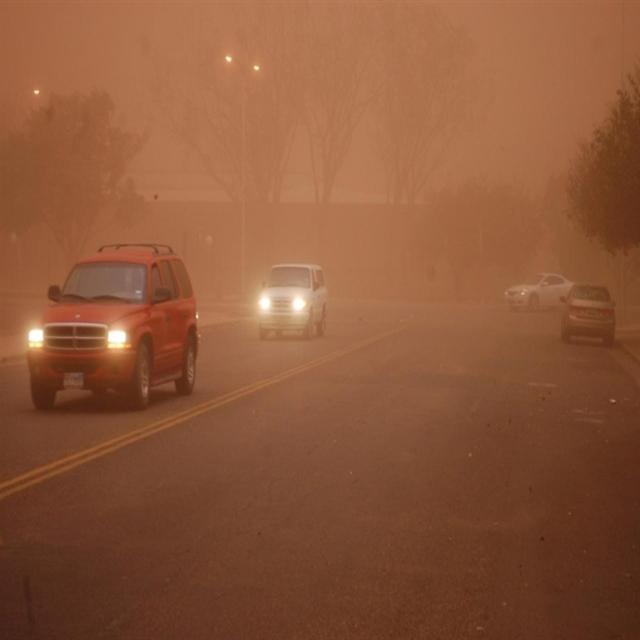Car: (22, 212, 206, 426), (253, 243, 333, 350), (502, 262, 578, 320), (566, 272, 610, 336)
